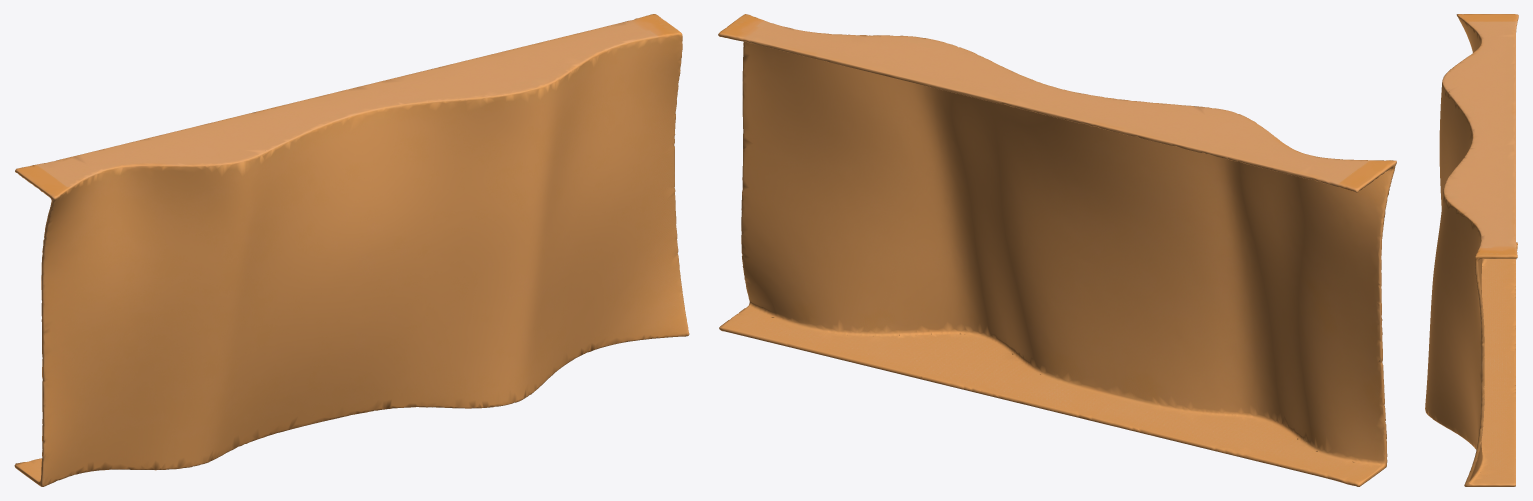
File: tool_sandpaper.glb
3 views of the same model, side by side, from view 1: azimuth 30°, elevation 25°; view 2: azimuth 150°, elevation 25°; view 3: azimuth 270°, elevation 25° (orthographic). The views are drawn at different scales.
Size of the model in its own units: 1.91 by 0.8491 by 0.3123.
1 material, 1 textured.
